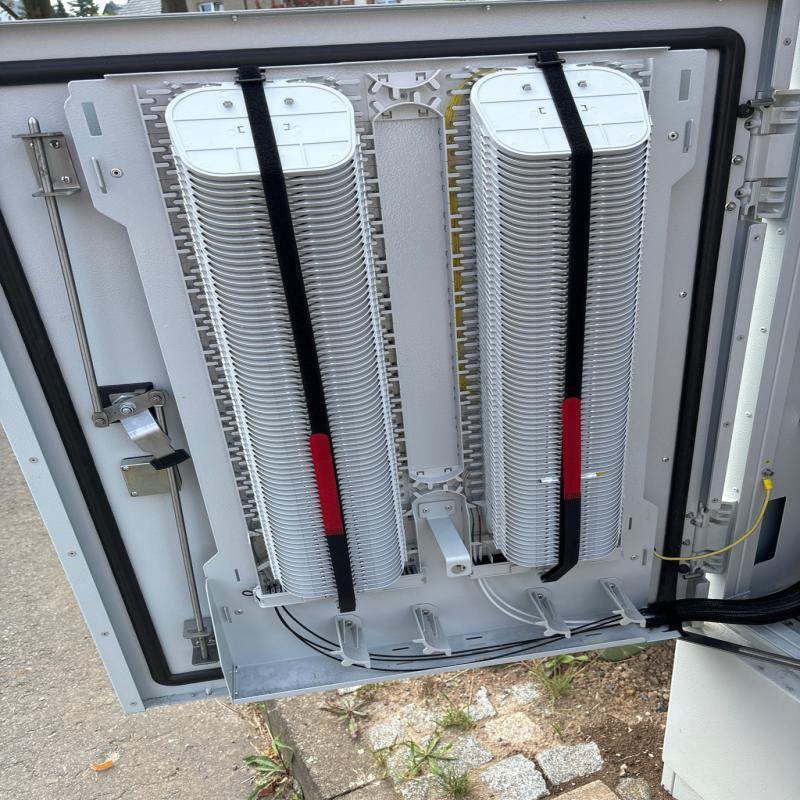NT-Gehause: (0, 2, 800, 800)
Spleiskassetten: (128, 64, 430, 609), (426, 53, 657, 569)
